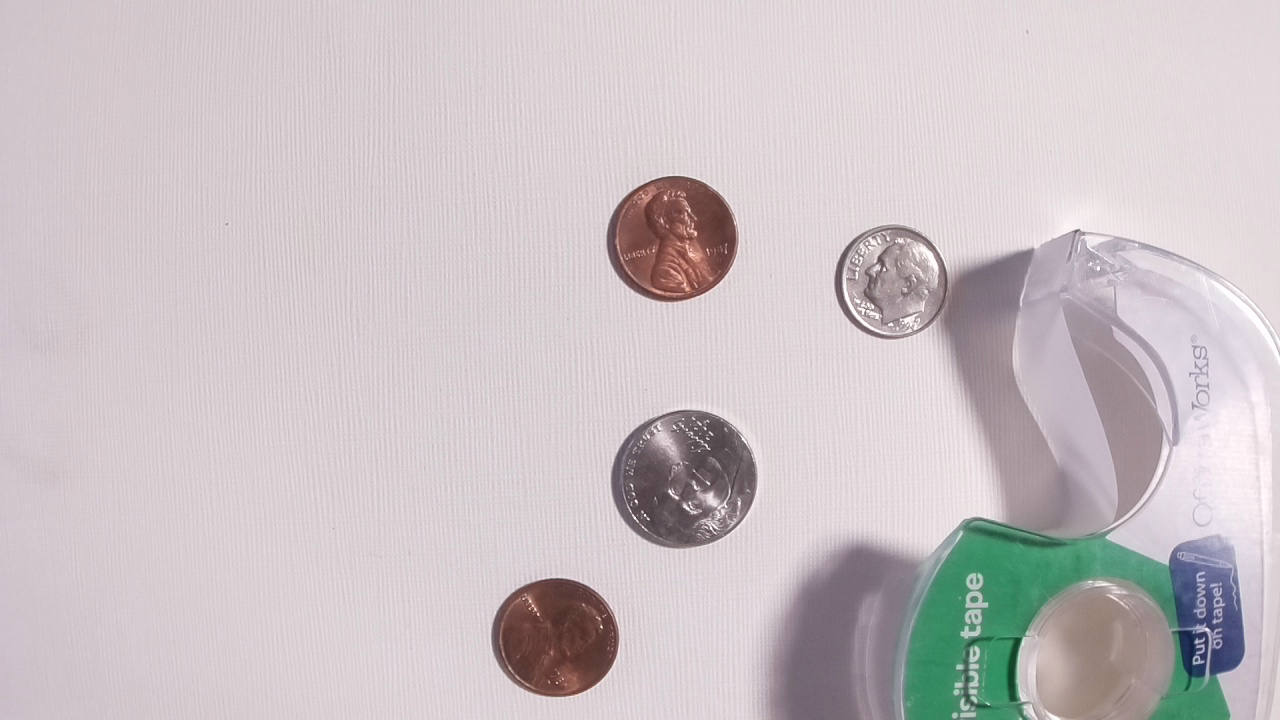dime: (835, 222, 948, 339)
nickel: (615, 410, 757, 548)
penny: (608, 171, 738, 301), (492, 575, 620, 697)
